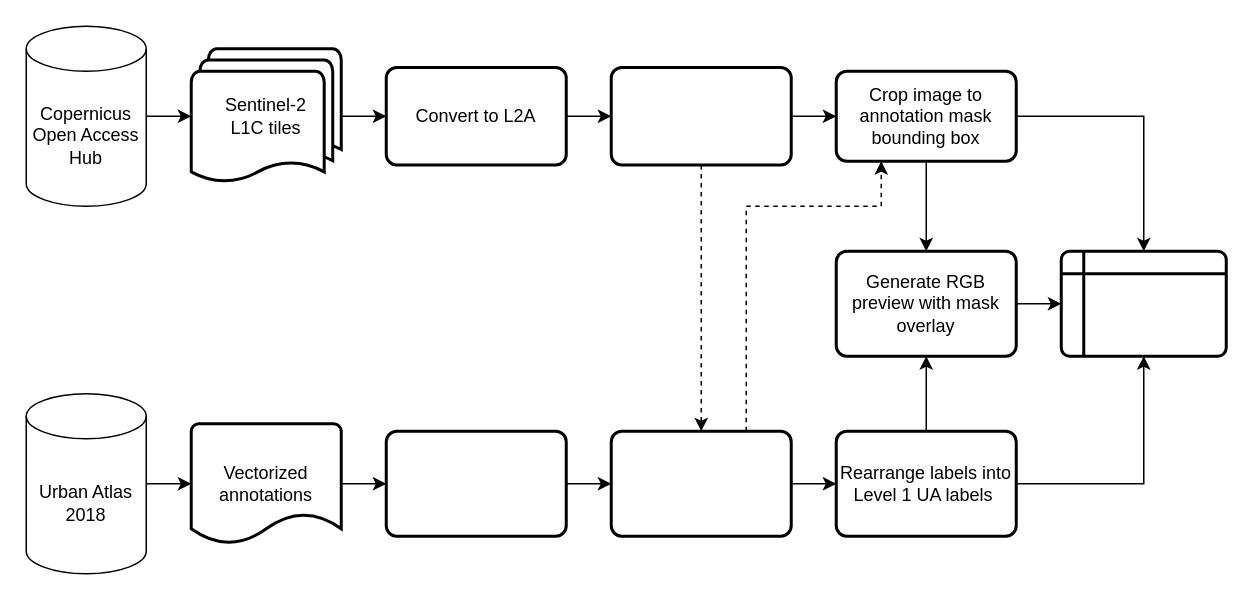
The diagram is 1254 pixels wide and 600 high, and some of its shapes have lost their labels. The shapes that lost their labels are listed below. From the top down, each one's centre as x and y in pixels, then its label:
At point 700,115: "Join selected bands into a single GeoTIFF file".
At point 1143,303: "Final dataset".
At point 475,483: "Rasterize into an annotation mask".
At point 700,483: "Reproject to same projection as Sentinel-2 tiles".
